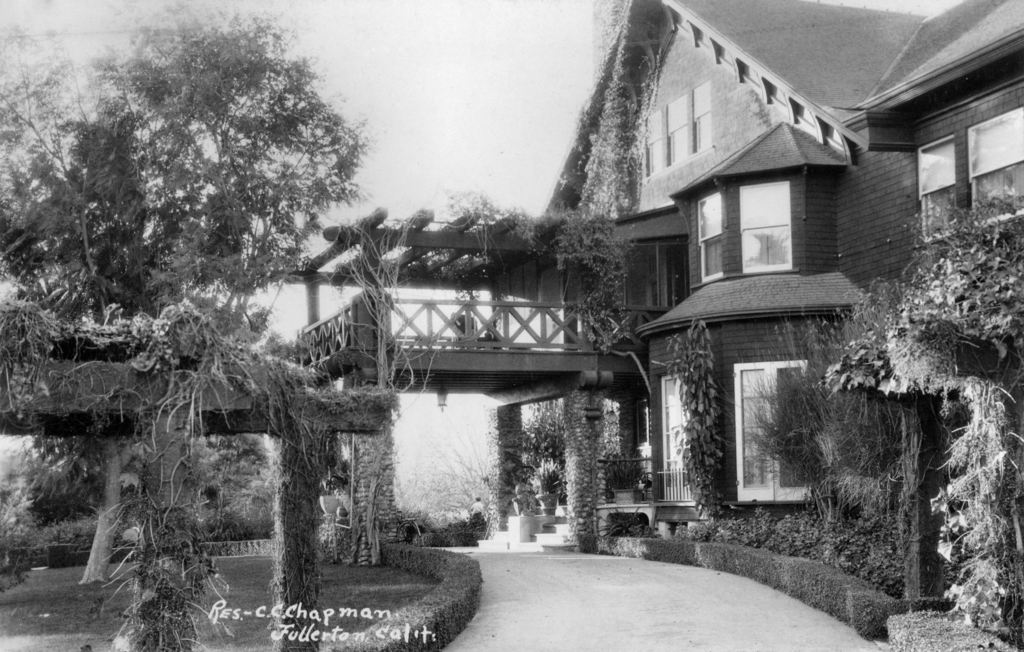Tree: (0, 0, 392, 606)
